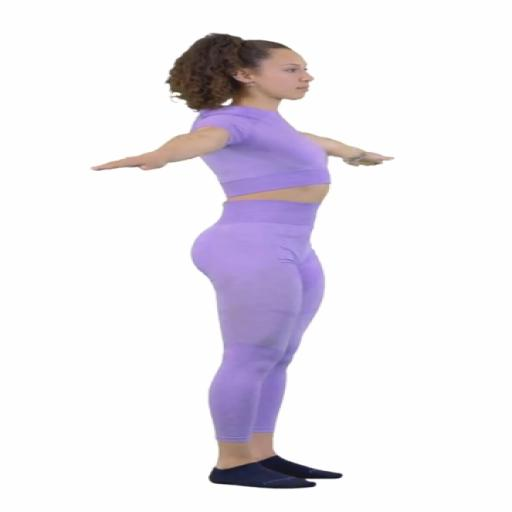Normal_JumpingJacks: (77, 23, 410, 512)
